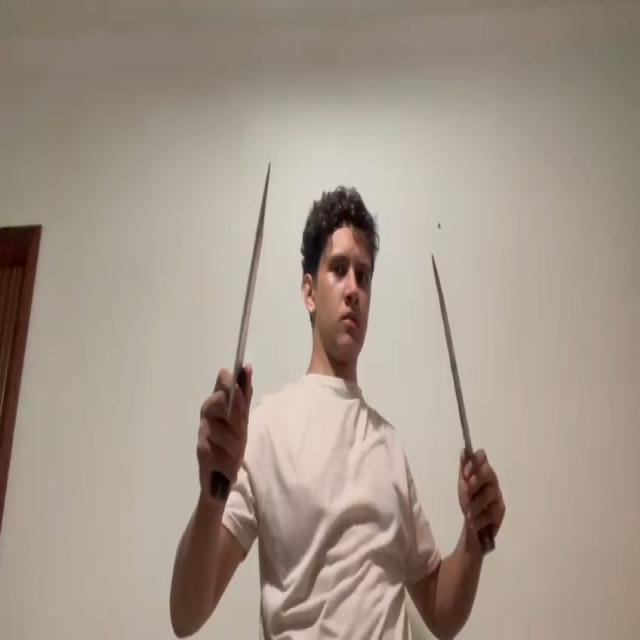knife: (229, 168, 271, 400), (431, 254, 471, 448)
